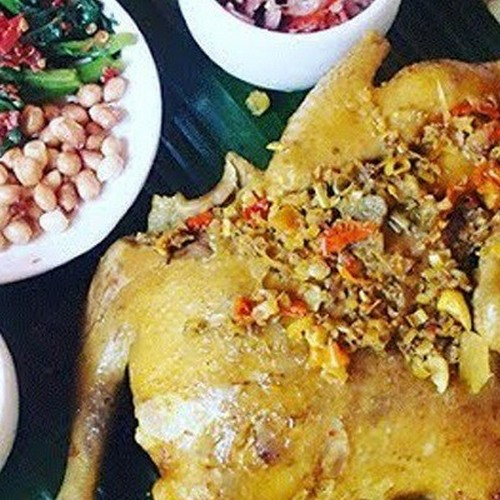ayam betutu: (115, 220, 494, 495)
